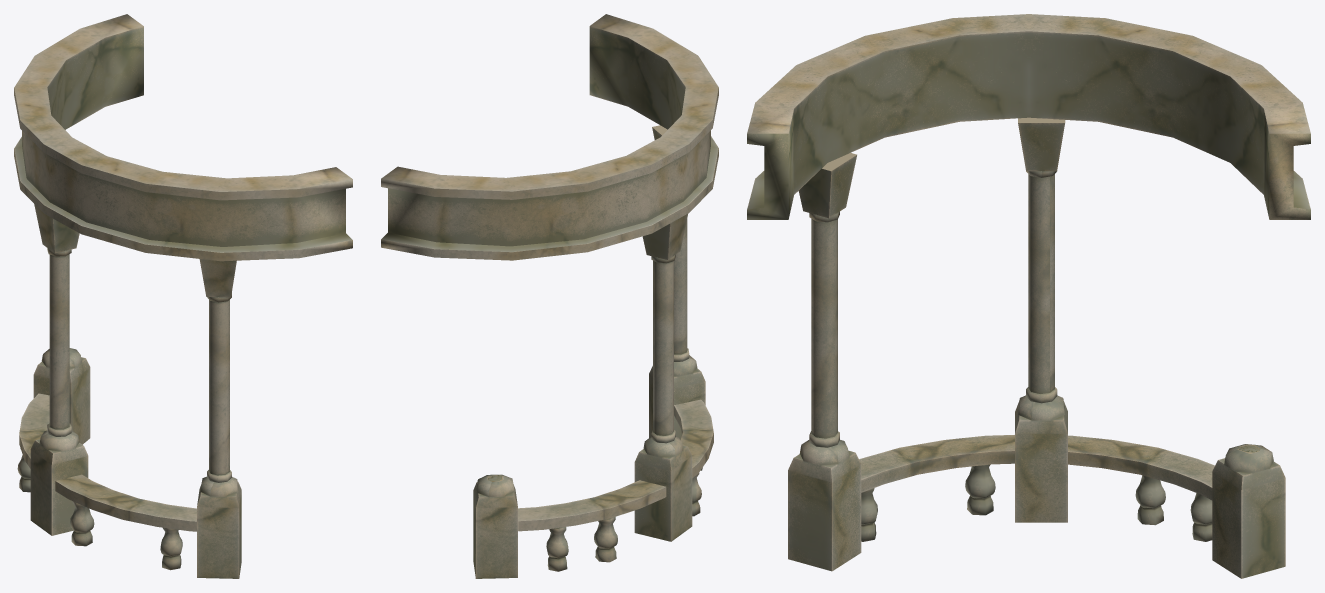
The model's file is pavilion09.fbx.
3 renders of one model, left to right at view 1: azimuth 30°, elevation 25°; view 2: azimuth 150°, elevation 25°; view 3: azimuth 270°, elevation 25°, orthographic. The views are drawn at different scales.
Parts seen in each view (by area): view 1: Cylinder.016; view 2: Cylinder.016; view 3: Cylinder.016.
Part boxes in pixels (x1,y1,x2,y2): Cylinder.016: (14,14,352,578); Cylinder.016: (381,14,718,578); Cylinder.016: (747,14,1310,578).
Size of the model in its own units: 286 by 542 by 571.
